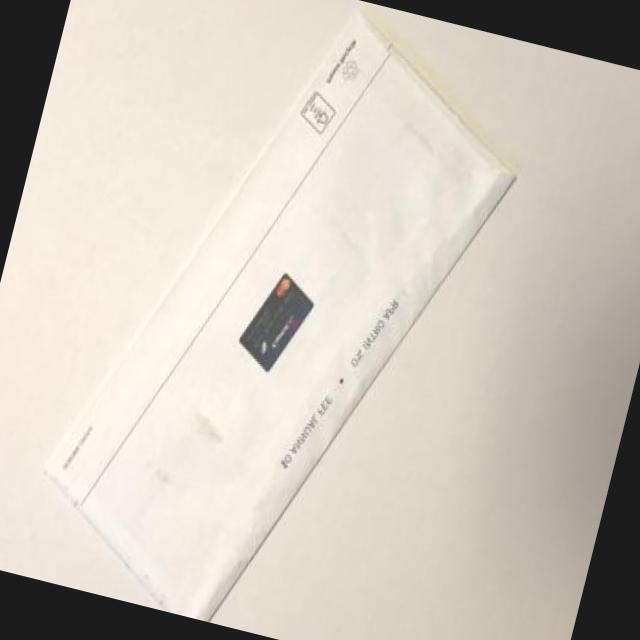giay: (41, 6, 518, 623)
